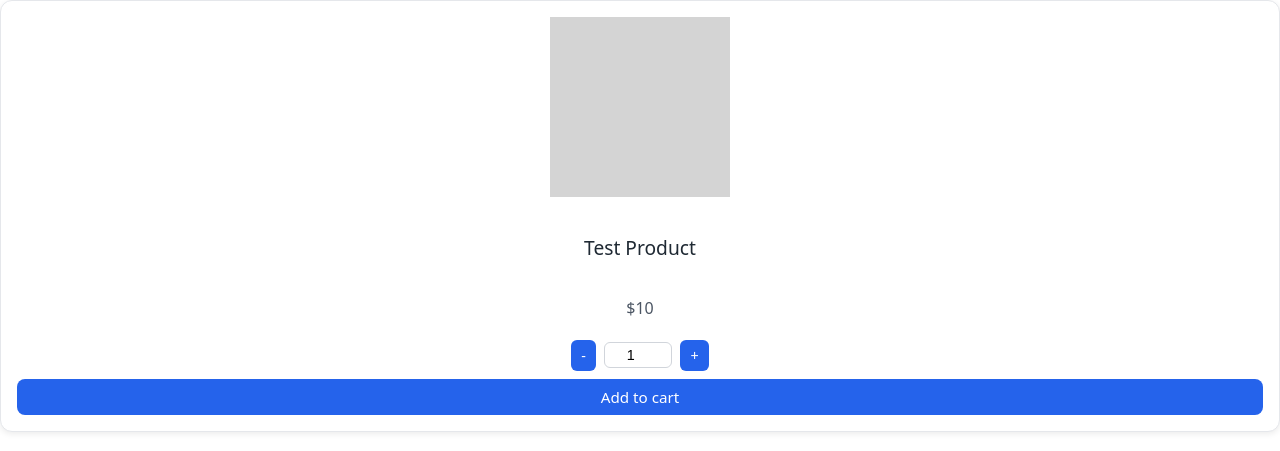
Scenario: ProductCard component › Input display increment amount
Expected: the number field holds "1", [604,342,672,368]
Click the button "+". click: (695, 355)
box: [680,340,709,370]
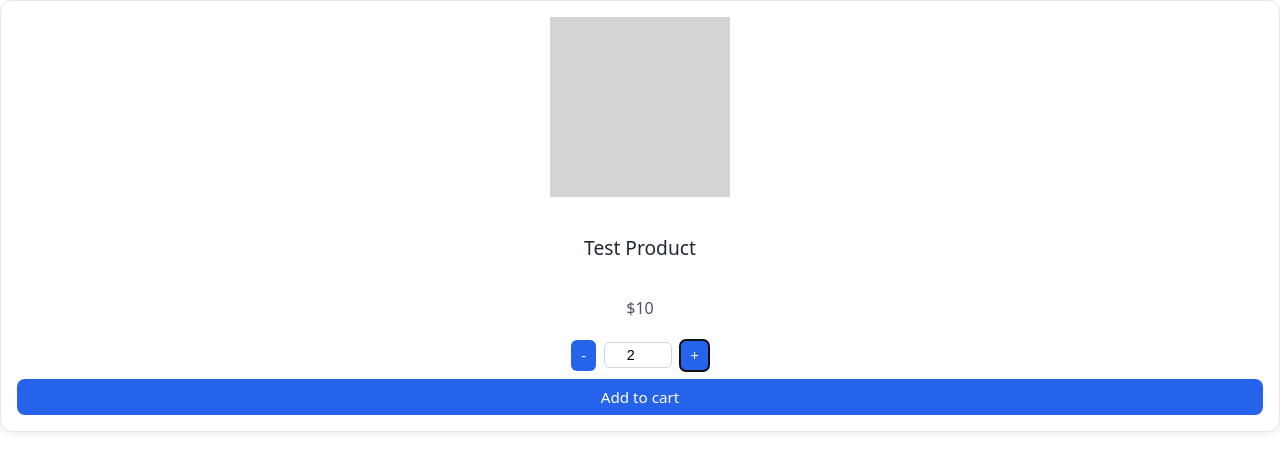
Now the number field holds "2", box [604,342,672,368]
Click the button "-". click: (584, 355)
box: [571,340,596,370]
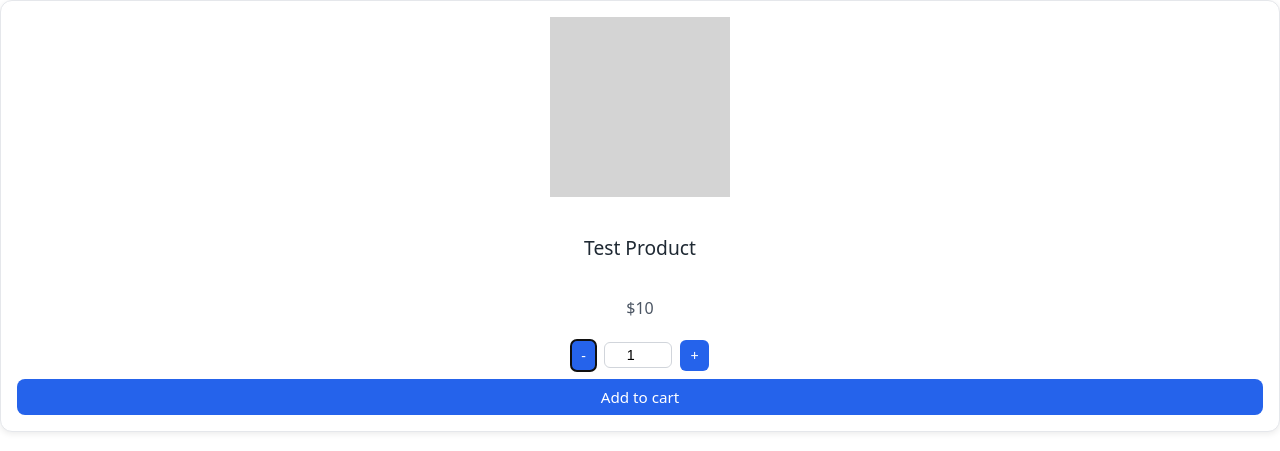
Now the number field holds "1", box [604,342,672,368]
